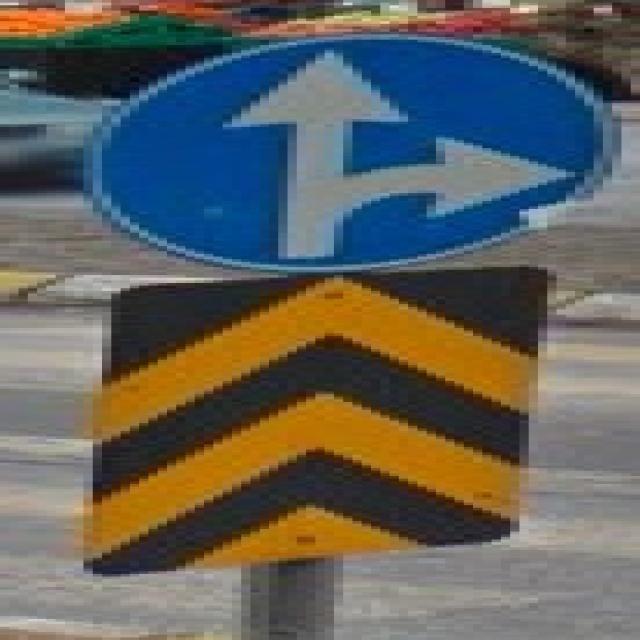Straight or Right: (89, 37, 590, 269)
